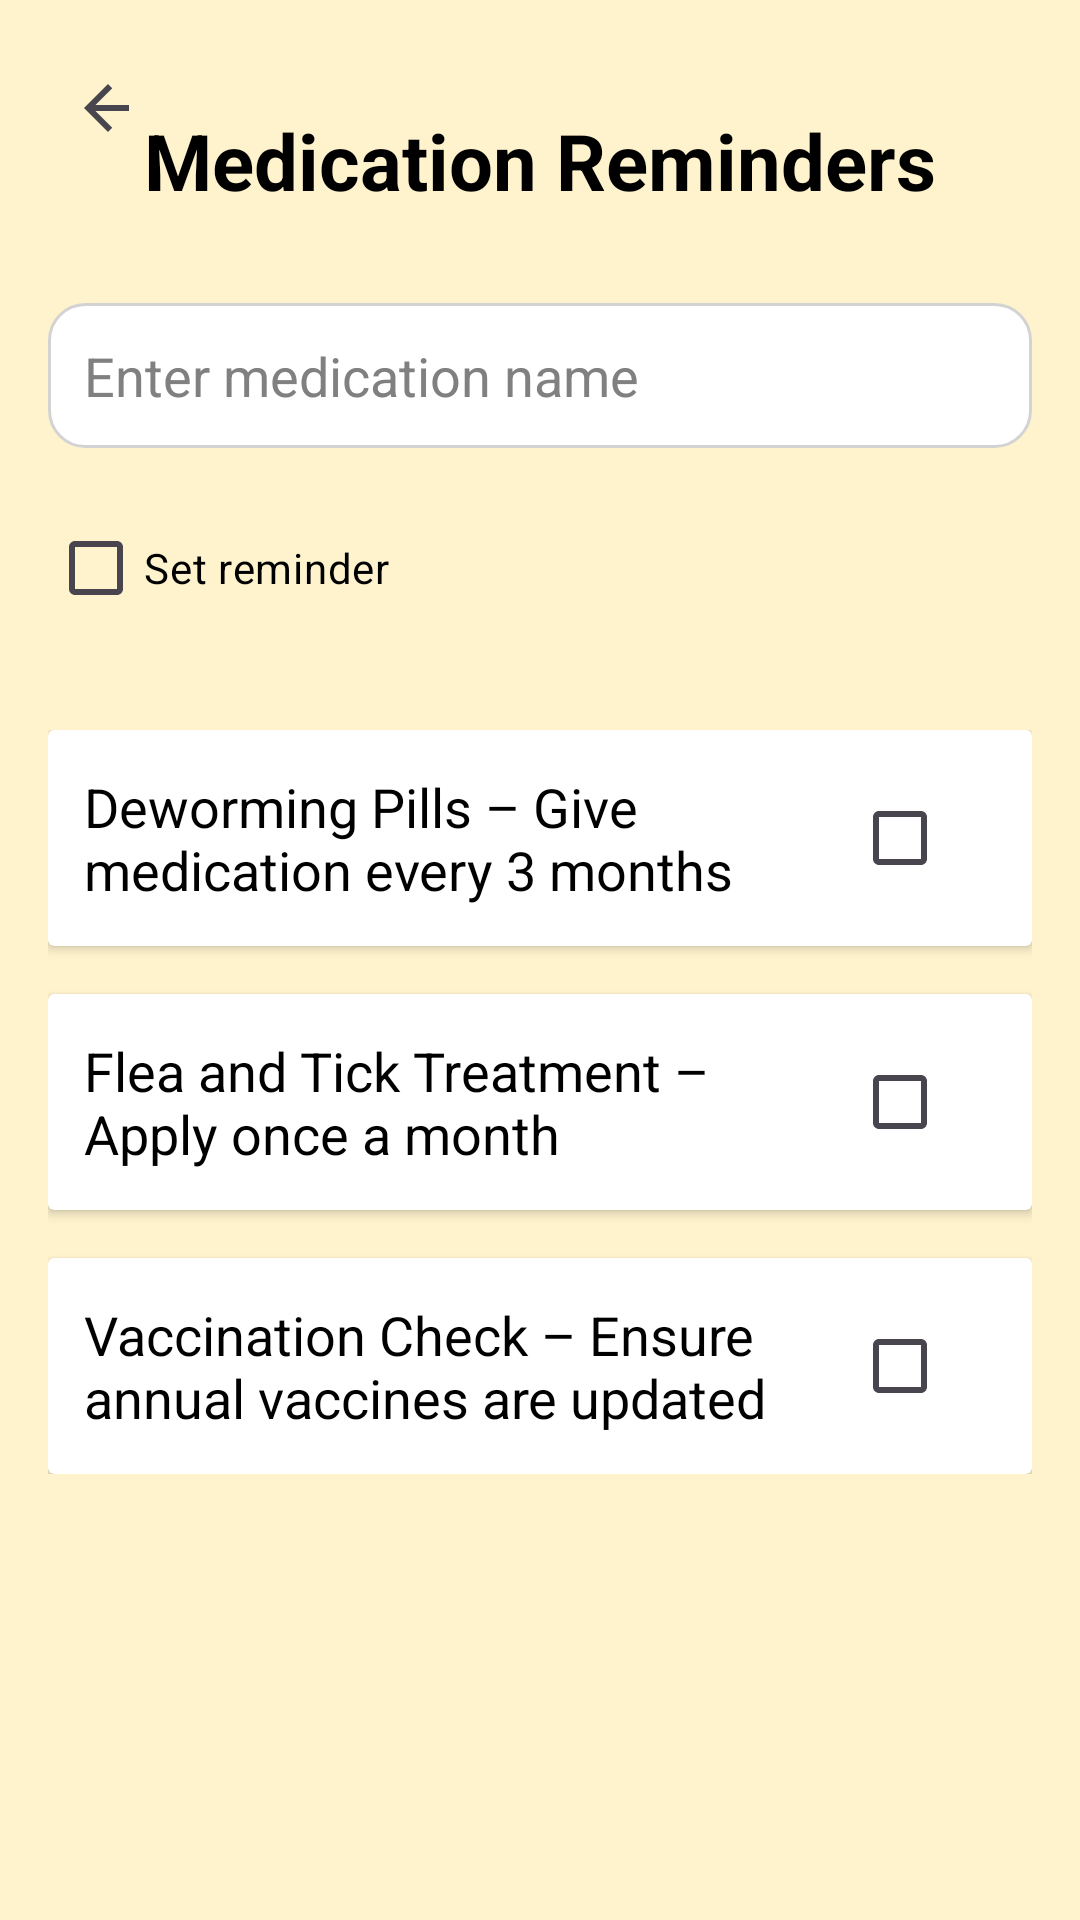

Screen size 1080w x 1920h. Icon name, then its center in pixels as point (x, y):
Back: point (106, 108)
